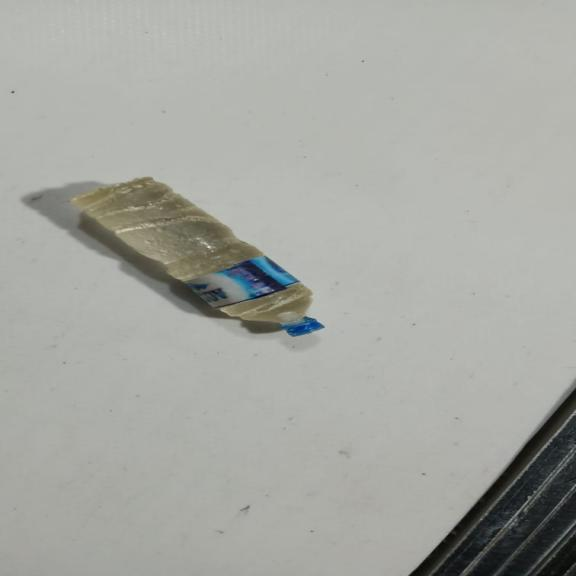Plastik: (70, 177, 328, 337)
